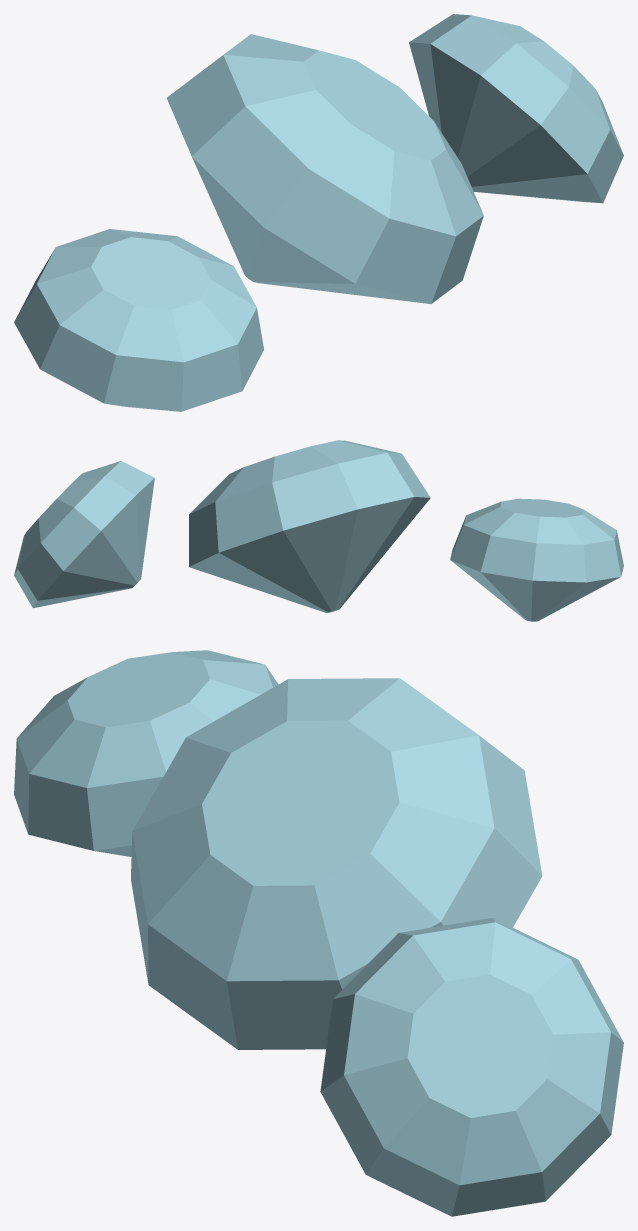
3 views of the same model, one above another, from view 1: azimuth 30°, elevation 25°; view 2: azimuth 150°, elevation 25°; view 3: azimuth 270°, elevation 25° (orthographic). The views are drawn at different scales.
Parts seen in each view (by area): view 1: TI035 / individually faceted stone 1, TI035 / individually faceted stone 0, TI035 / individually faceted stone 2; view 2: TI035 / individually faceted stone 1, TI035 / individually faceted stone 0, TI035 / individually faceted stone 2; view 3: TI035 / individually faceted stone 1, TI035 / individually faceted stone 2, TI035 / individually faceted stone 0.
Part boxes in pixels (bbox=[...]): TI035 / individually faceted stone 1: bbox=[167, 34, 483, 303]; TI035 / individually faceted stone 0: bbox=[14, 229, 263, 411]; TI035 / individually faceted stone 2: bbox=[409, 14, 623, 203]; TI035 / individually faceted stone 1: bbox=[189, 440, 430, 612]; TI035 / individually faceted stone 0: bbox=[450, 498, 623, 621]; TI035 / individually faceted stone 2: bbox=[14, 461, 154, 608]; TI035 / individually faceted stone 1: bbox=[131, 678, 542, 1049]; TI035 / individually faceted stone 2: bbox=[320, 918, 623, 1216]; TI035 / individually faceted stone 0: bbox=[14, 650, 278, 856].
Size of the model in its own units: 2.54 by 0.8889 by 1.57.
